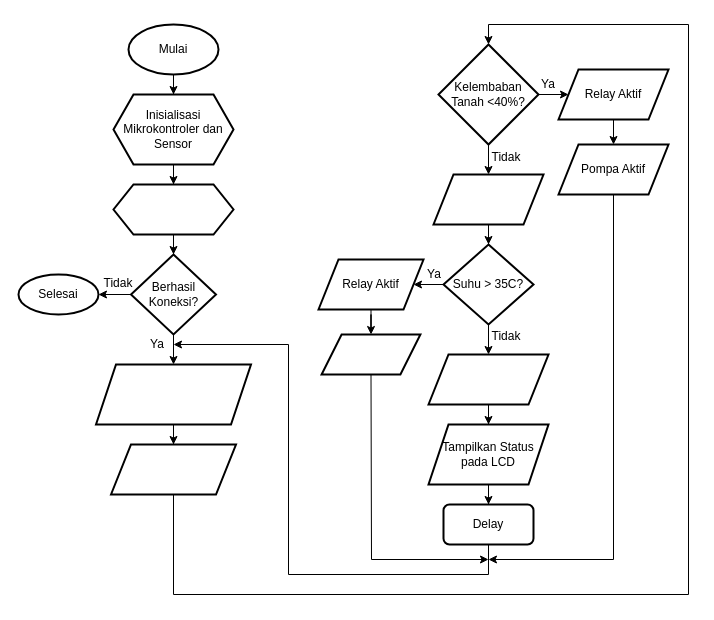
The diagram is 714 pixels wide and 620 high, and some of its shapes have lost their labels. Each missing label, with the centre of its shape:
"Baca Sensor (DHT21, Kelembaban Tanah)" belongs at (173,394).
"Fan Aktif" belongs at (370,354).
"Koneksi ke Wifi" belongs at (173,209).
"Relay mati dan Fan Mati" belongs at (488,379).
"Relay mati dan Pompa Mati" belongs at (488,199).
"Tampilkan Output Sensor pada LCD" belongs at (173,469).
